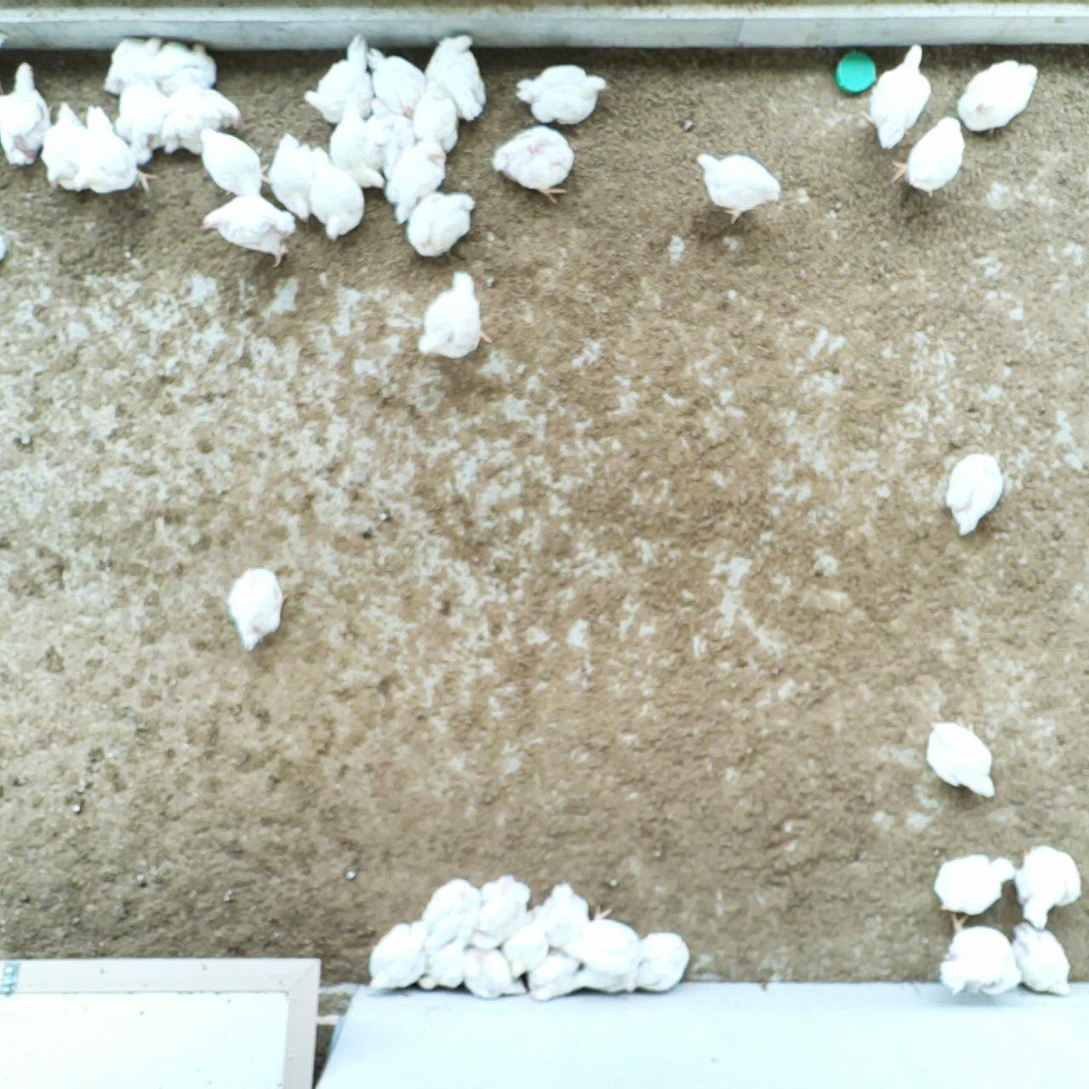chicken: (68, 102, 159, 200), (858, 41, 936, 153), (200, 193, 299, 271), (928, 849, 1017, 934), (416, 269, 494, 362), (490, 123, 578, 205), (956, 56, 1041, 139), (693, 149, 784, 226), (886, 115, 970, 198), (1012, 840, 1086, 932), (511, 61, 611, 129), (304, 30, 374, 125), (936, 925, 1023, 1001), (922, 715, 998, 801), (307, 145, 370, 245), (382, 138, 449, 228), (196, 124, 274, 201), (160, 89, 245, 159), (942, 449, 1007, 538), (0, 59, 51, 172), (225, 563, 288, 653), (425, 30, 488, 118), (559, 902, 641, 969), (1009, 920, 1076, 1001), (360, 917, 431, 993), (404, 190, 478, 260), (469, 872, 533, 952), (112, 77, 170, 163), (40, 97, 89, 194), (363, 90, 416, 177), (362, 44, 425, 113), (102, 32, 167, 98), (267, 129, 312, 223), (500, 898, 551, 979), (546, 880, 606, 948), (411, 77, 463, 153), (424, 875, 477, 946), (152, 37, 219, 93), (638, 929, 692, 996), (465, 947, 527, 1003), (528, 950, 577, 1007), (569, 960, 637, 998), (418, 941, 466, 993)
